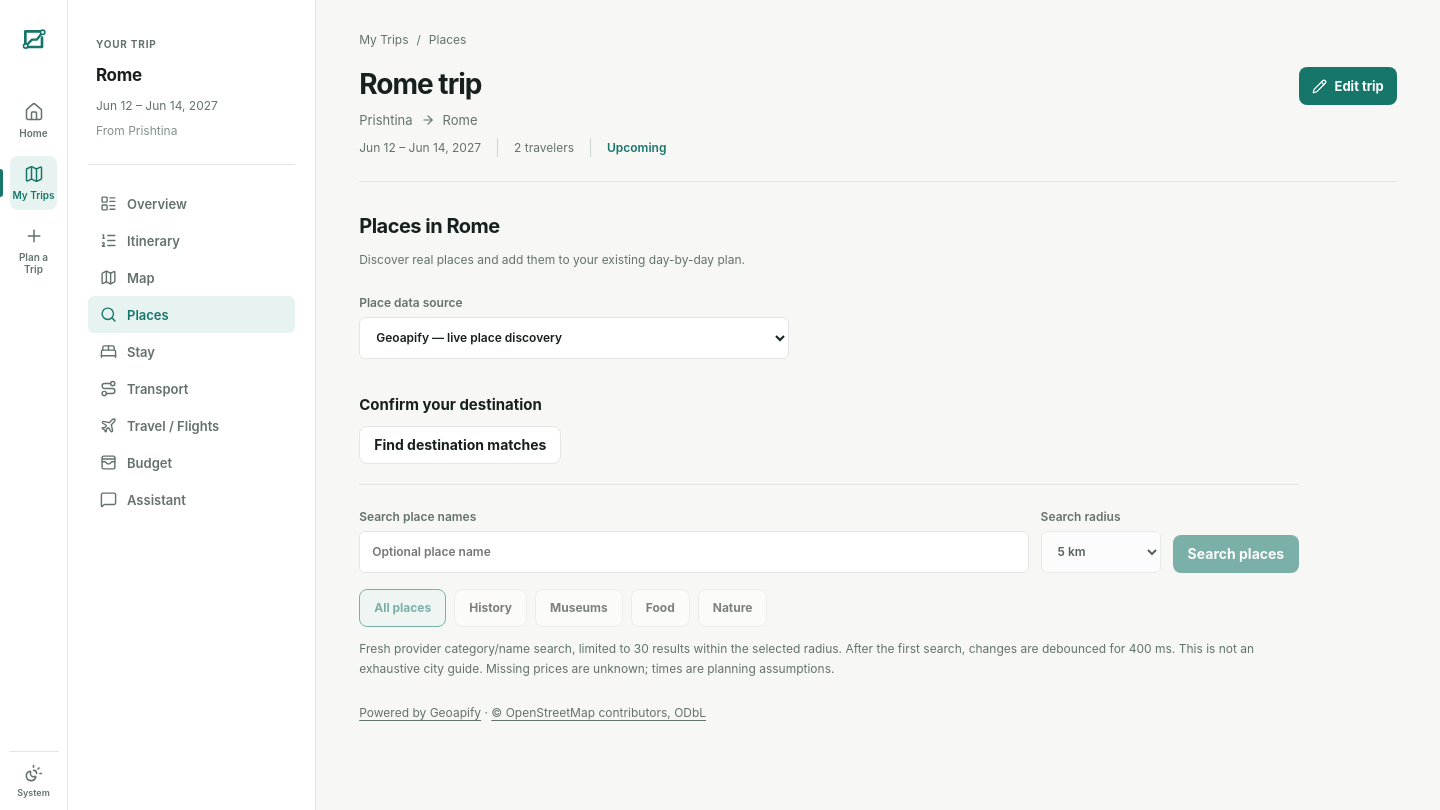
Places workspace with actual Geoapify adapter and mocked external responses › handles provider authentication/rate failures without crashing or removing saved trips
expect the heading "Places in Rome" is shown: met, box [359,214,500,238]
Click the button "Find destination matches": x=460, y=445 [359,426,561,464]
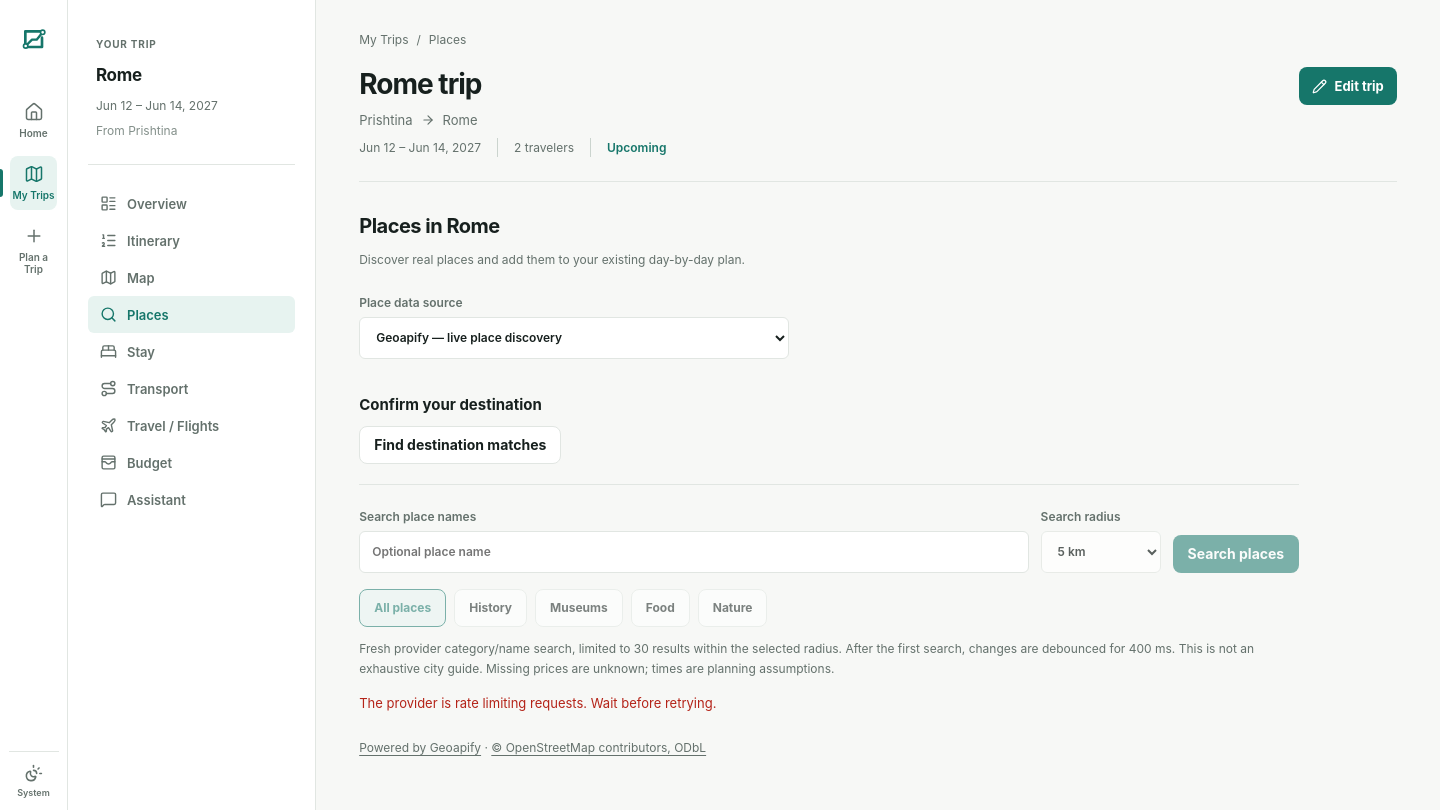
expect the text "Rome" is shown: met, box [96,65,142,85]
expect the message shows "rate limiting": met, box [359,695,716,711]
